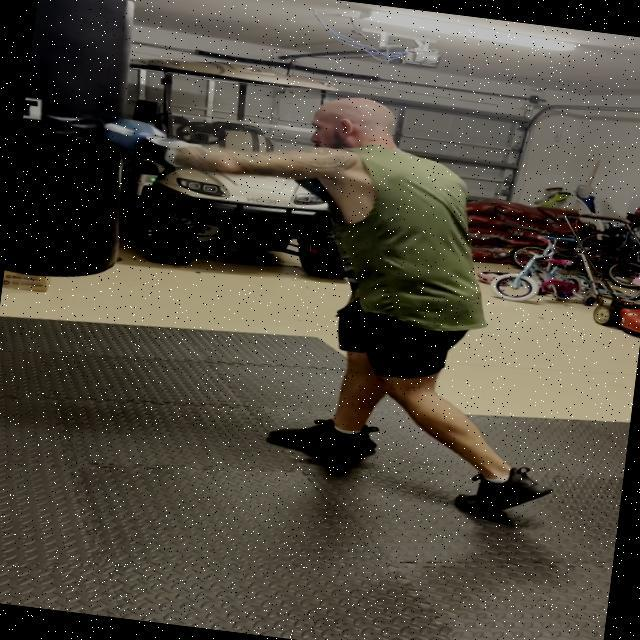punch: (94, 16, 502, 252)
